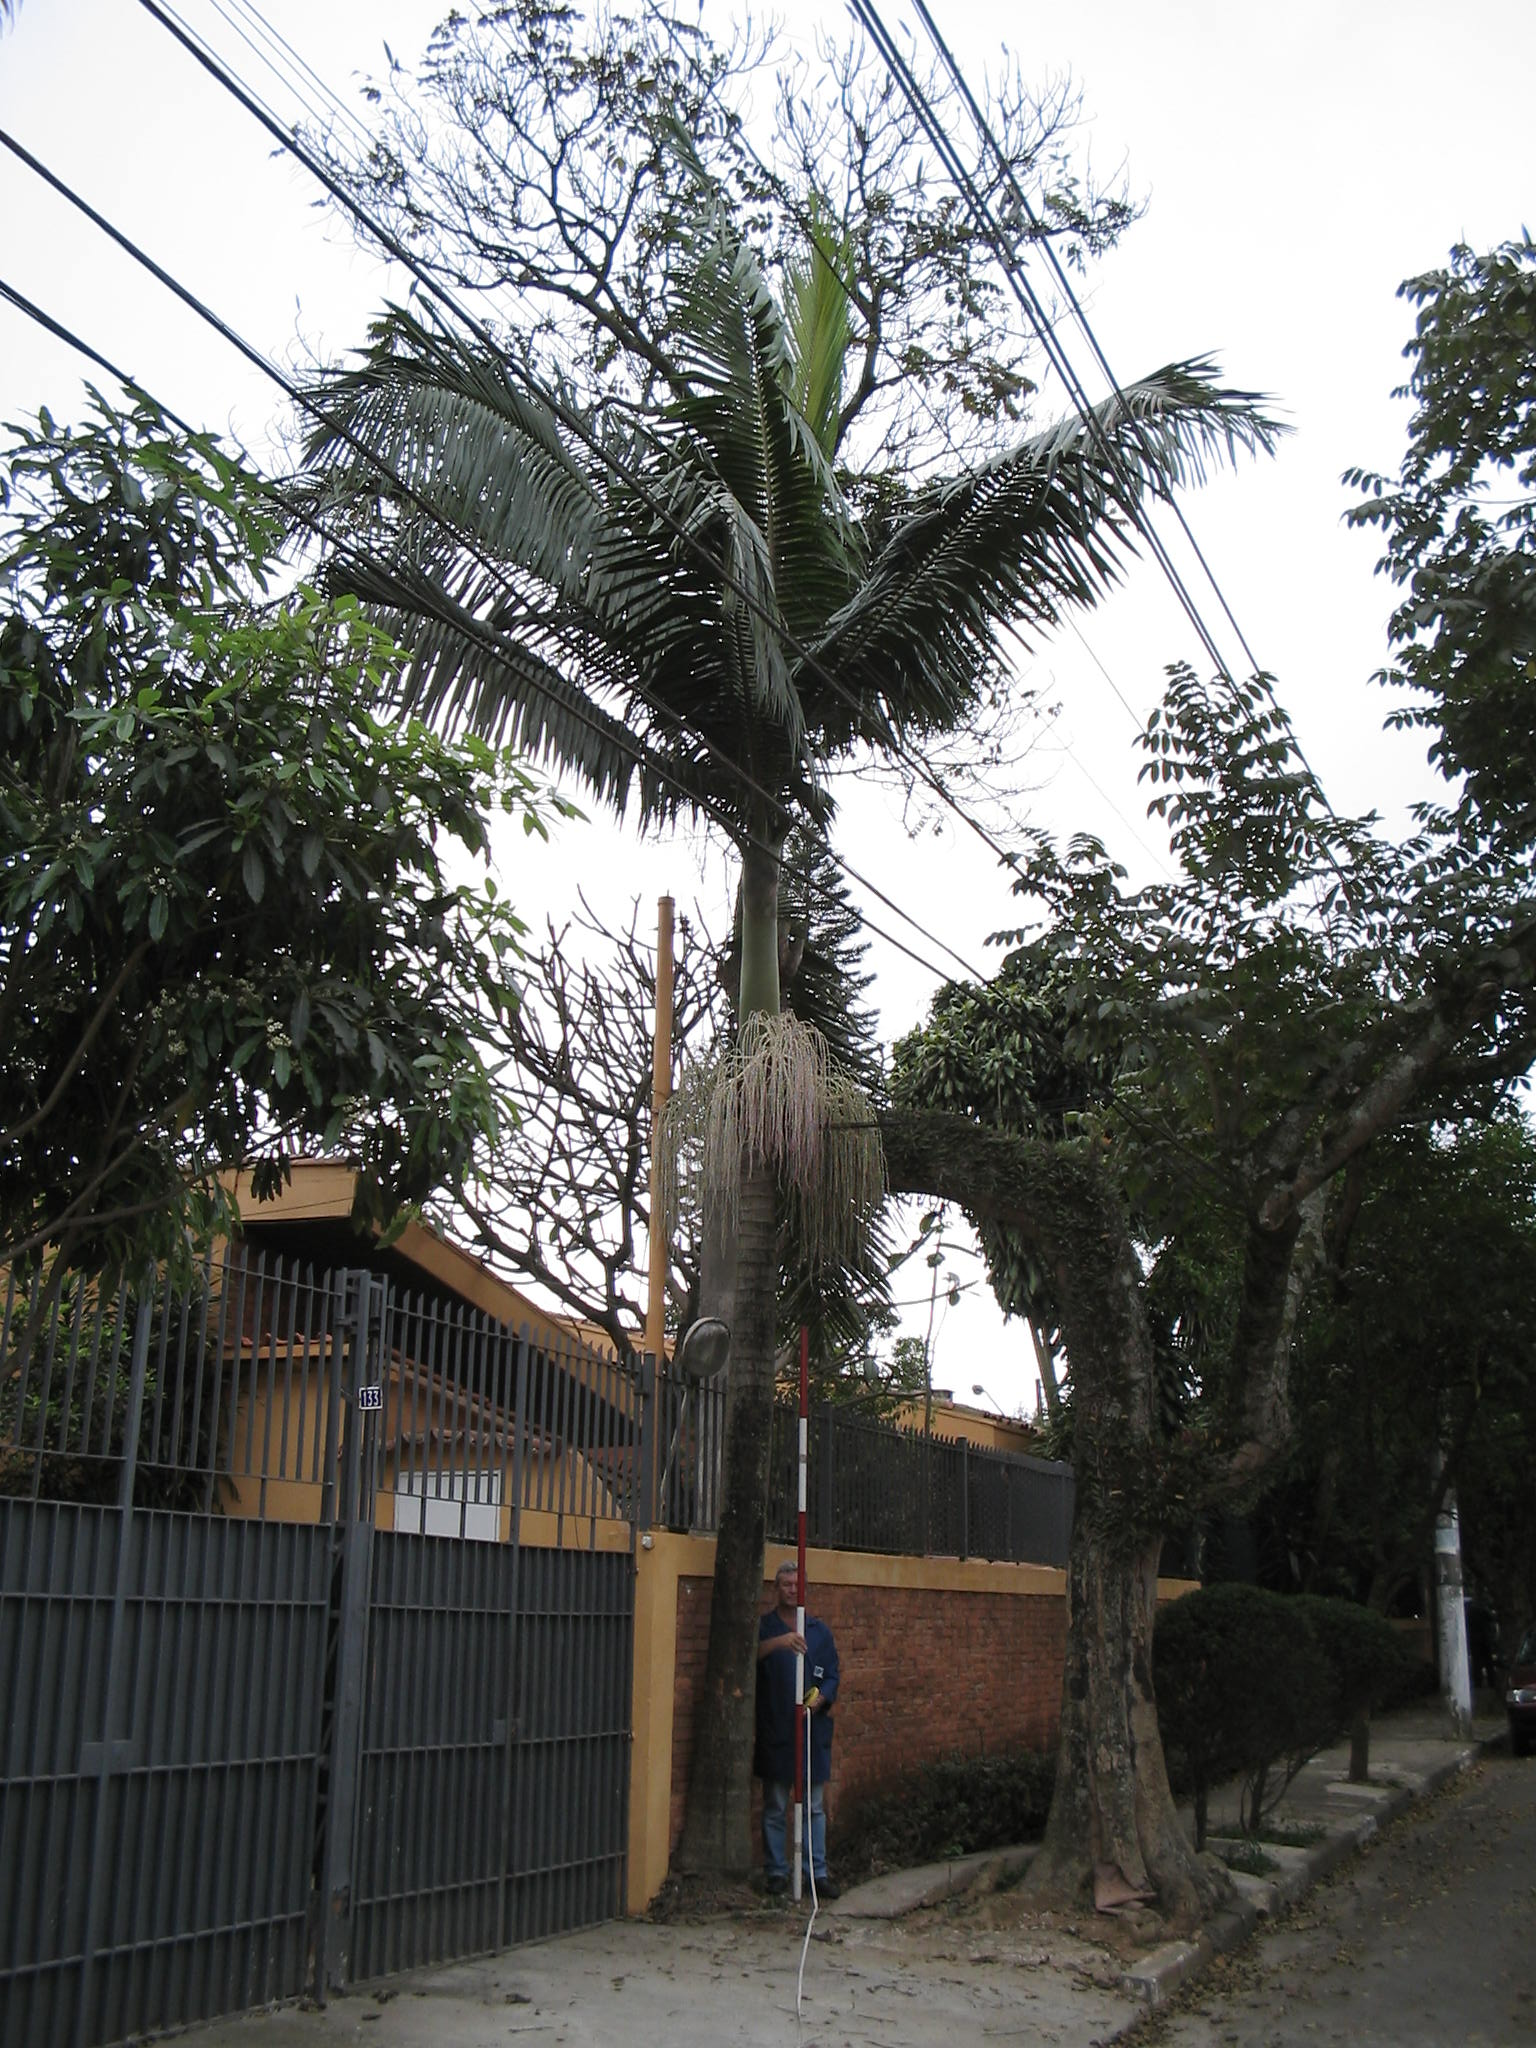crown: (315, 224, 1288, 868)
stem: (657, 879, 795, 1917), (971, 1546, 1278, 1913)
stick: (762, 1326, 845, 1895)
tree: (303, 224, 1291, 1925), (858, 911, 1528, 1911)
